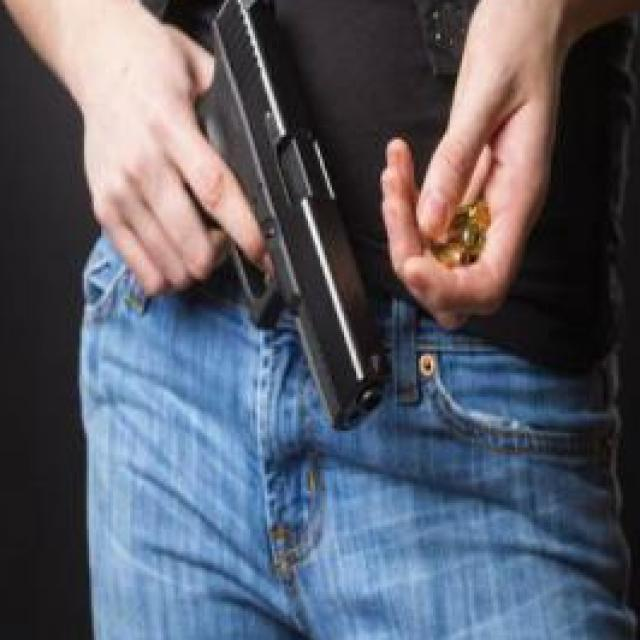pistol: (147, 0, 392, 450)
